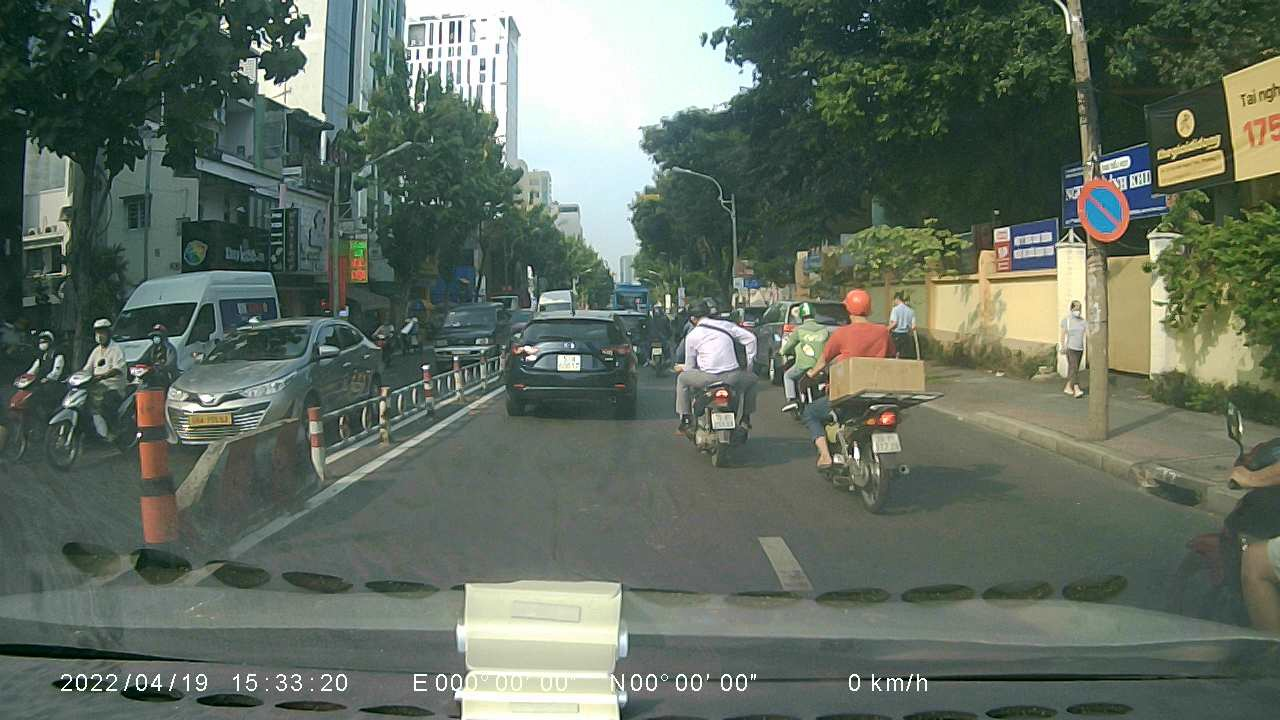Cam do xe: (1073, 178, 1132, 244)
